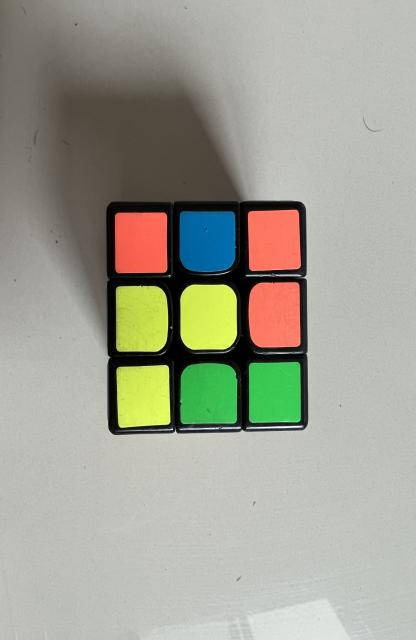Blue: (180, 211, 235, 272)
Green: (180, 362, 237, 424), (249, 362, 301, 422)
Orange: (248, 282, 301, 348), (115, 212, 168, 274), (248, 210, 301, 271)
Yellow: (180, 285, 237, 350), (116, 286, 168, 352), (116, 365, 170, 428)
